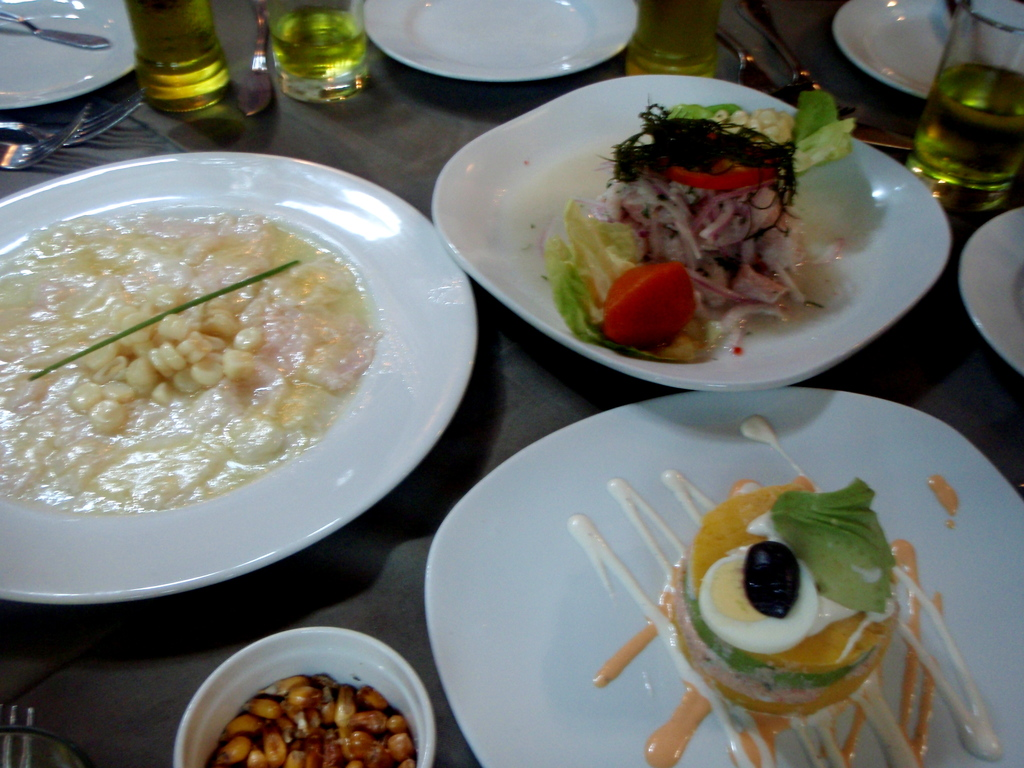Tomato: (612, 243, 706, 337)
